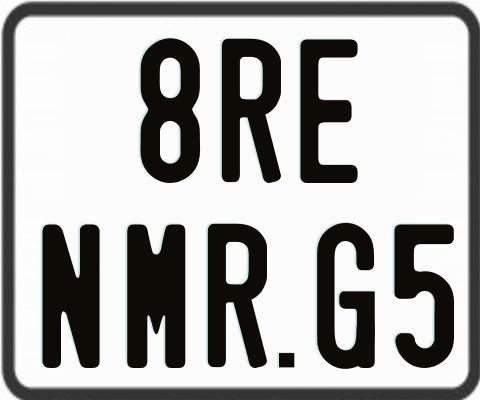5: (394, 222, 460, 367)
8: (139, 36, 201, 184)
E: (298, 39, 362, 189)
G: (317, 223, 379, 375)
M: (125, 223, 189, 369)
N: (40, 221, 99, 370)
R: (208, 224, 269, 374), (219, 38, 278, 183)
